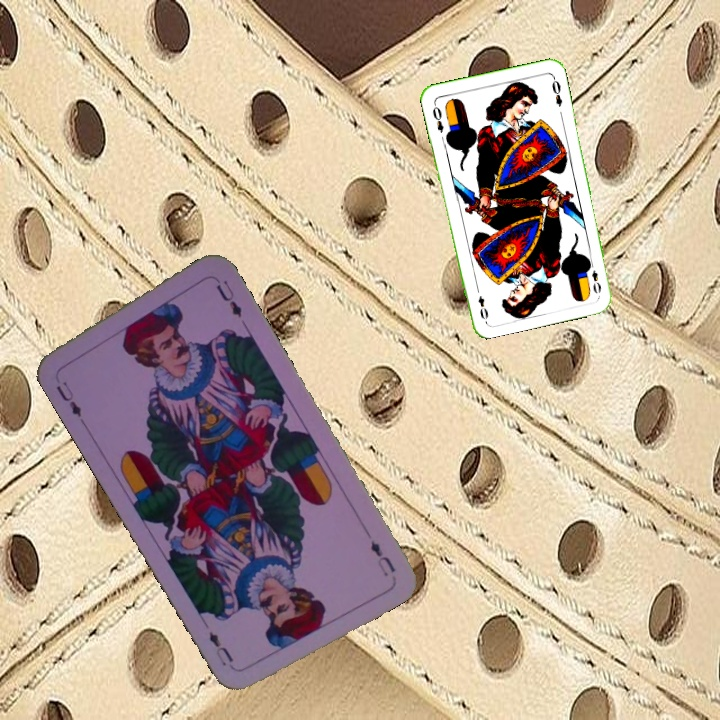EO: (584, 257, 604, 296), (428, 99, 446, 135)
EU: (366, 536, 398, 580), (52, 377, 84, 420)
